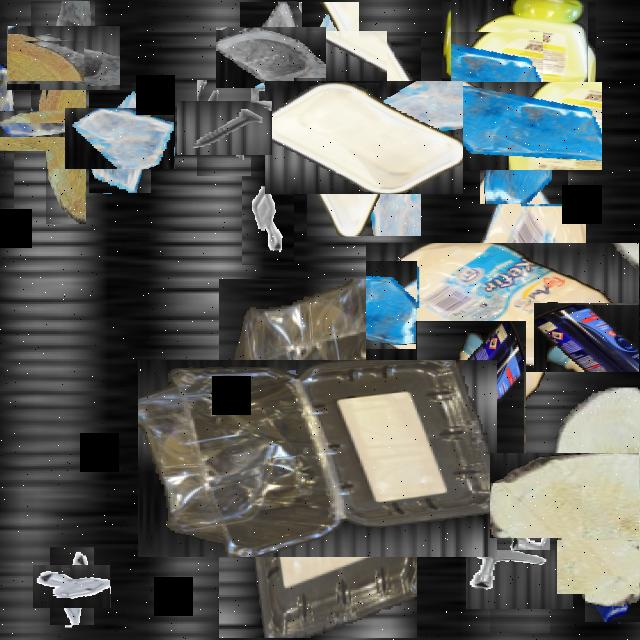glass: (463, 65, 585, 187), (316, 441, 422, 547), (273, 16, 373, 116), (18, 14, 108, 103), (77, 96, 163, 182), (228, 14, 314, 100), (571, 525, 640, 608), (0, 87, 49, 172), (595, 531, 640, 606)
metal: (478, 538, 562, 621), (186, 90, 262, 166), (242, 172, 294, 265), (42, 556, 102, 617)
plastic: (179, 319, 457, 598), (411, 198, 631, 417), (286, 59, 442, 215), (446, 0, 592, 144), (416, 322, 526, 468)
wood: (522, 420, 640, 571), (10, 75, 122, 188)
